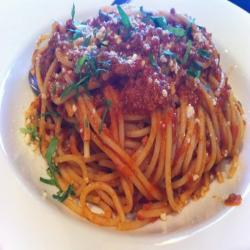bolonese_pasta: (27, 10, 249, 233)
